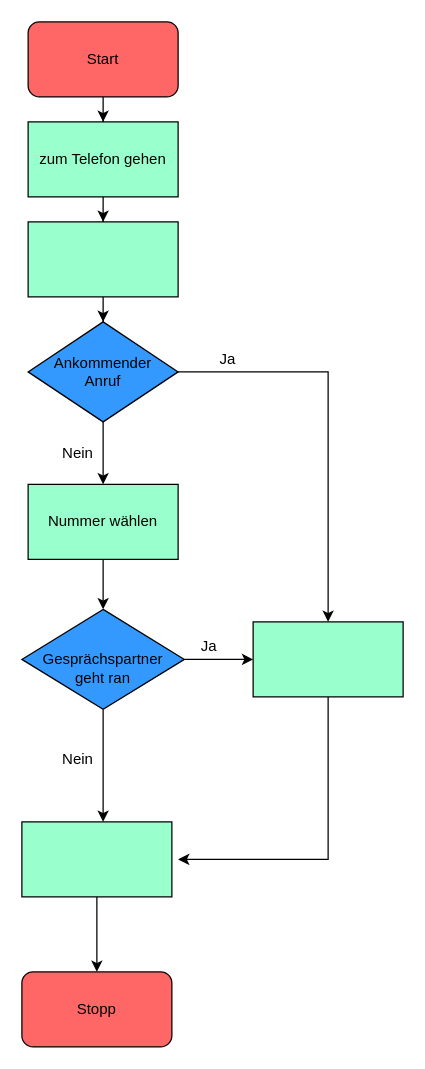
This 425x1069 diagram has some shape labels left out. The centre of each missing label's shape, as x and y in pixels:
"Gespräch führen" belongs at (327,659).
"Hörer abnehmen" belongs at (102,259).
"Hörer auflegen" belongs at (96,859).
